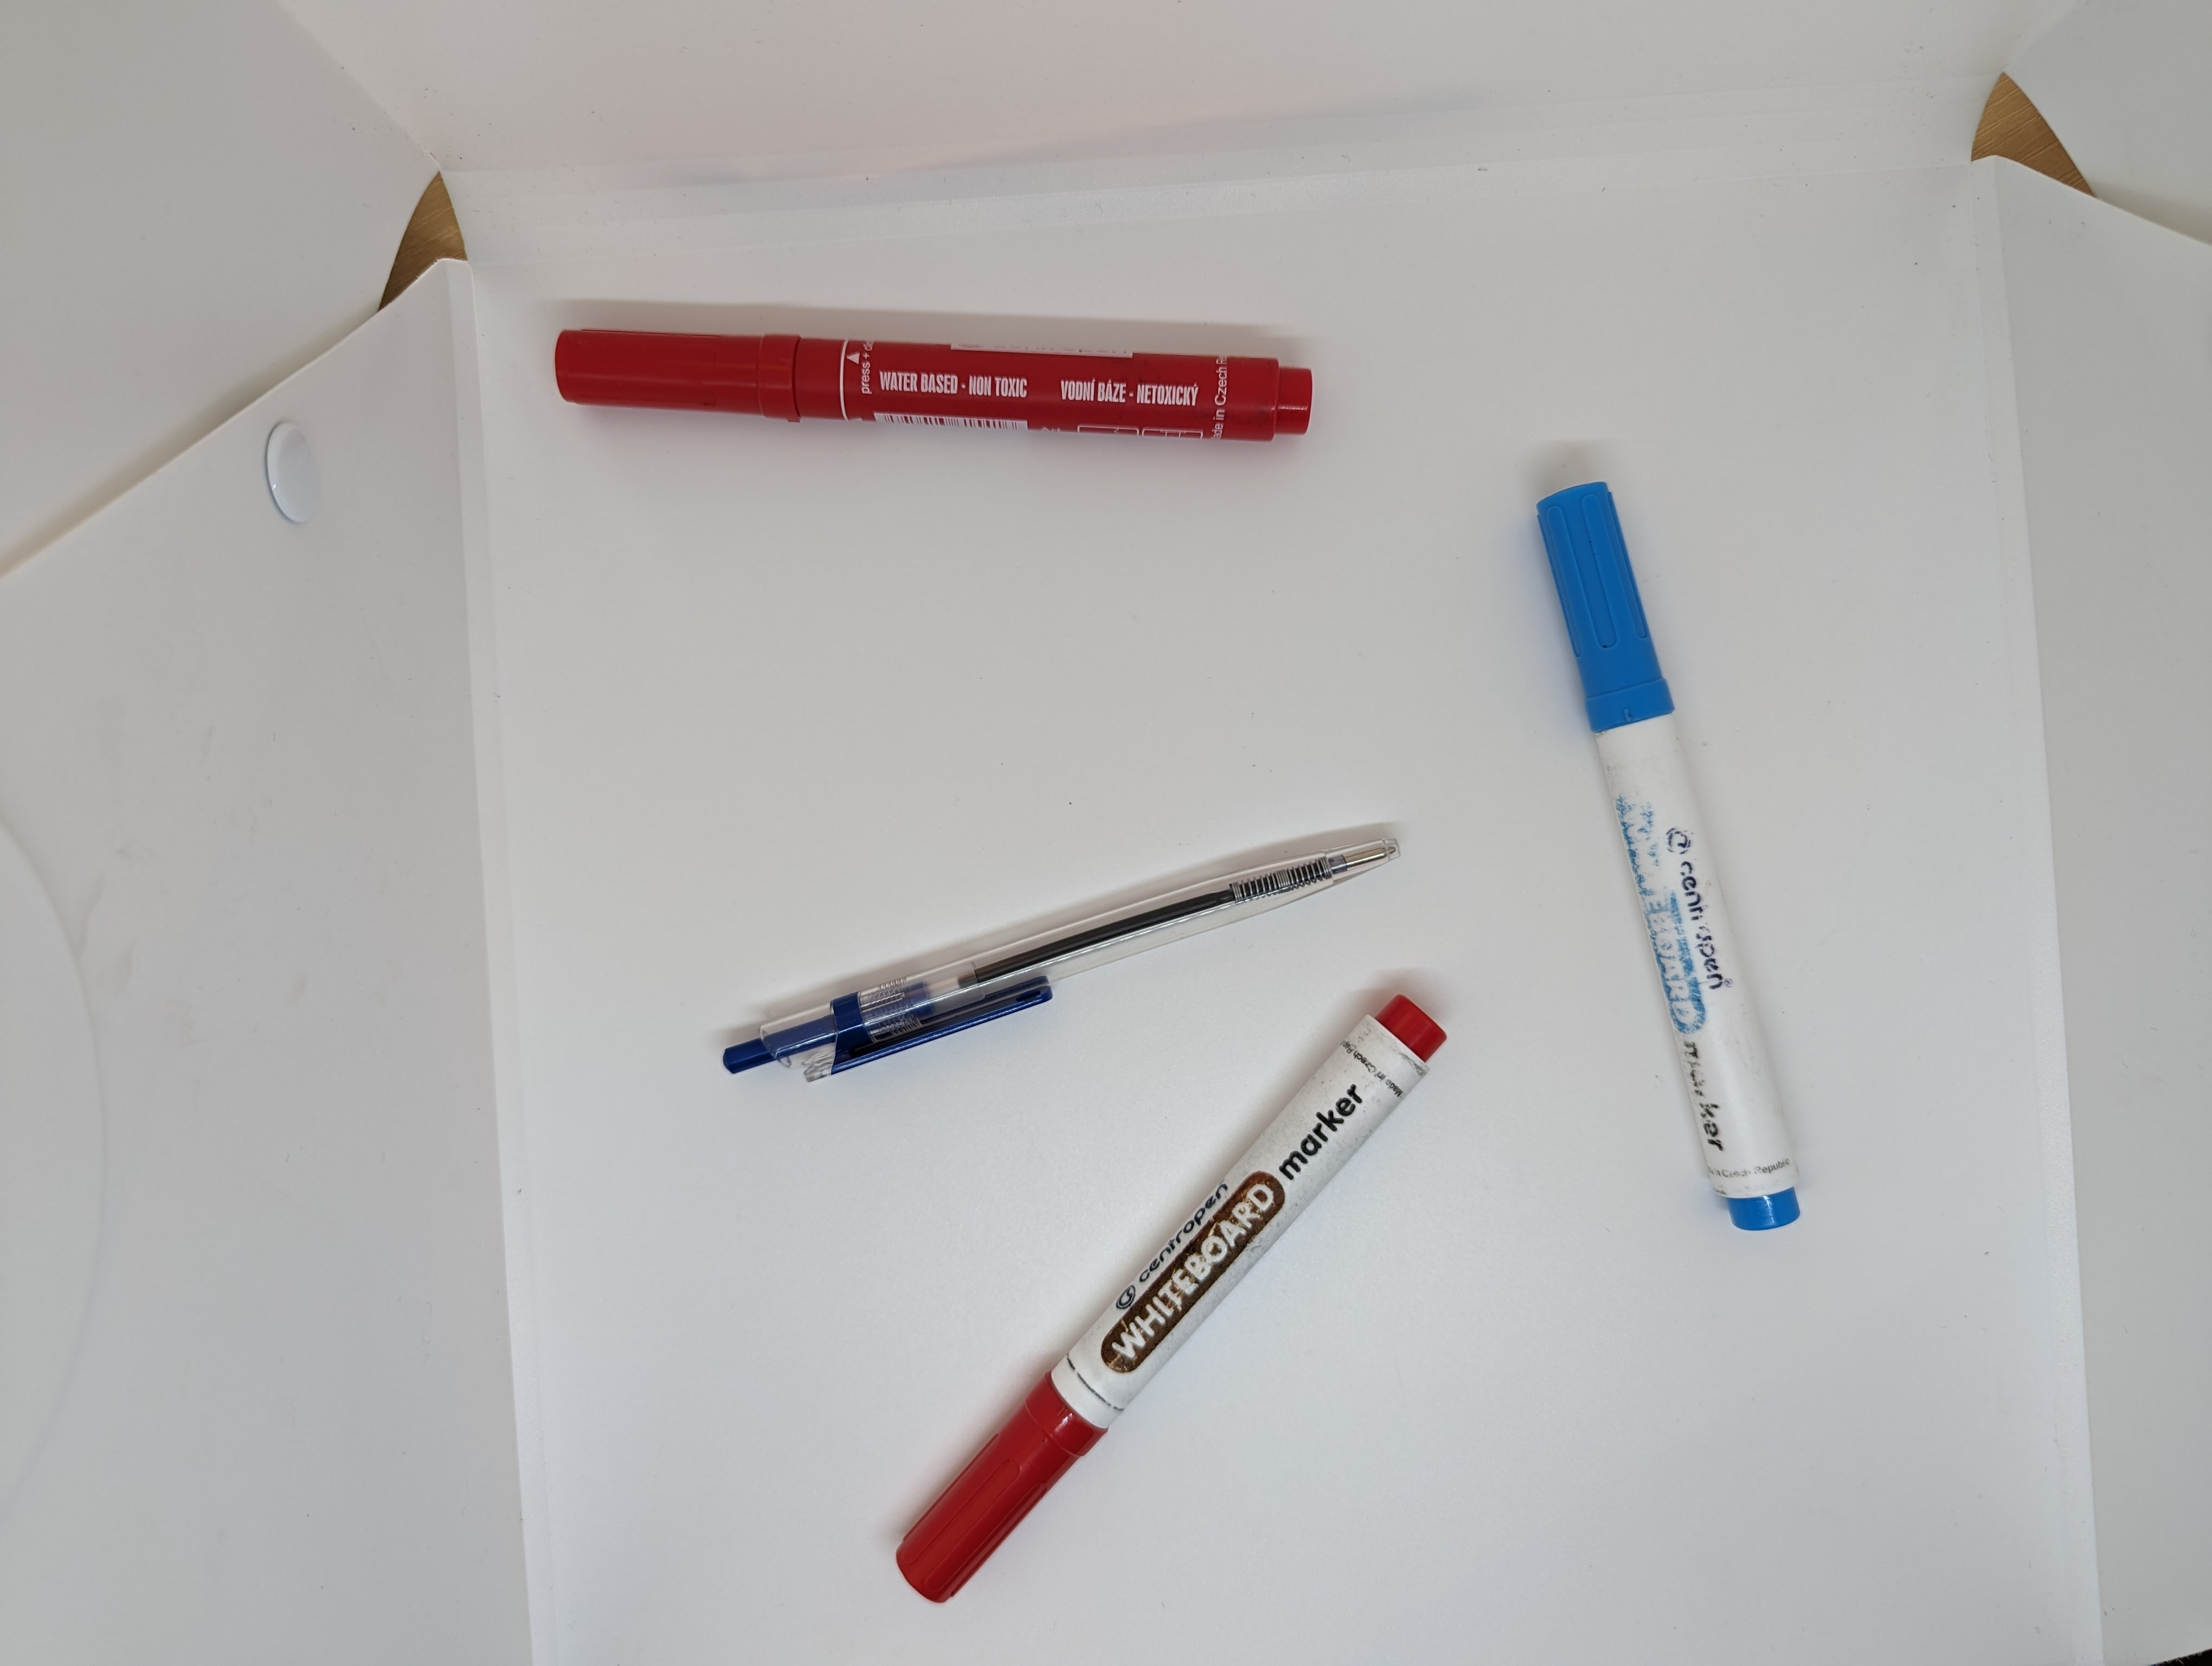blue-stylo: (1506, 434, 1833, 1255)
red-red-stylo: (530, 276, 1388, 497)
red-stylo: (698, 950, 1474, 1633)
regular-stylo: (671, 819, 1451, 1155)
